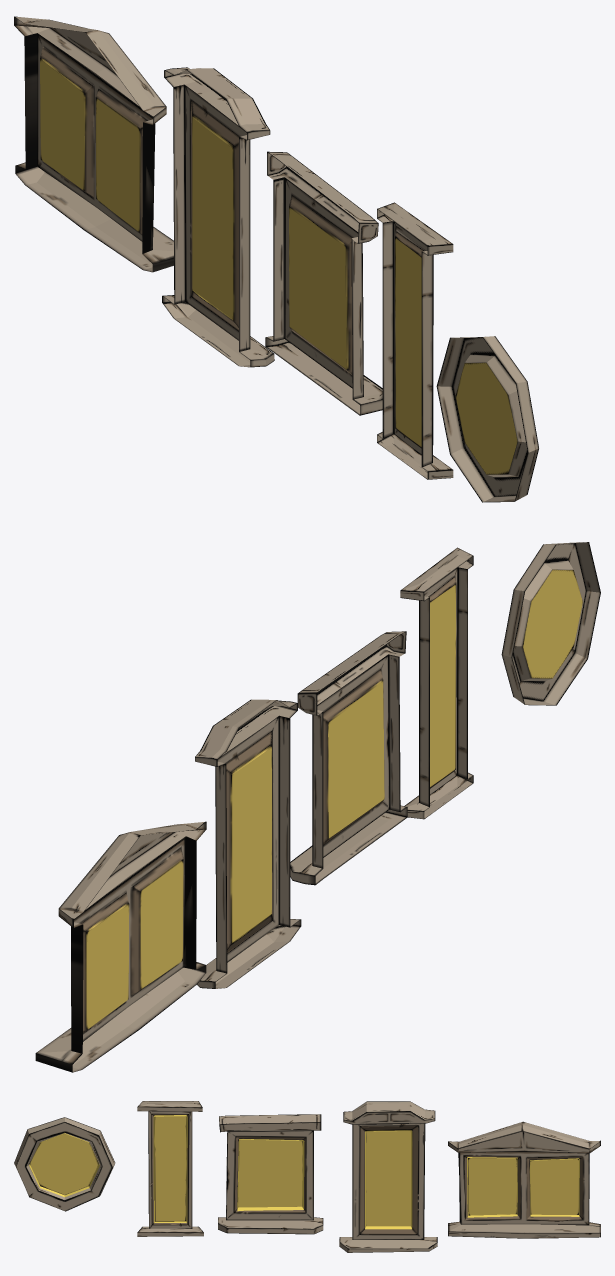
File: nowe okna wow.fbx
3 views of the same model, one above another, from view 1: azimuth 30°, elevation 25°; view 2: azimuth 150°, elevation 25°; view 3: azimuth 270°, elevation 25° (orthographic). The views are drawn at different scales.
Visible parts, largest first — view 1: Okno5.1, Okno4.1, Okno3.1, Okno2.005, Okno1.1; view 2: Okno5.1, Okno4.1, Okno3.1, Okno2.005, Okno1.1; view 3: Okno5.1, Okno4.1, Okno3.1, Okno1.1, Okno2.005.
Part boxes in pixels (x1,y1,x2,y2): Okno5.1: [14, 16, 173, 272]; Okno4.1: [162, 67, 274, 367]; Okno3.1: [265, 151, 382, 415]; Okno2.005: [377, 202, 453, 479]; Okno1.1: [436, 336, 538, 502]; Okno5.1: [35, 821, 206, 1072]; Okno4.1: [195, 699, 301, 988]; Okno3.1: [290, 631, 407, 885]; Okno2.005: [400, 547, 473, 819]; Okno1.1: [501, 542, 600, 705]; Okno5.1: [448, 1121, 600, 1238]; Okno4.1: [339, 1101, 437, 1252]; Okno3.1: [218, 1114, 323, 1234]; Okno1.1: [14, 1117, 115, 1211]; Okno2.005: [137, 1101, 203, 1236].
Size of the model in its own units: 105 by 222 by 808.
Materials: 1 (1 with a texture image).
